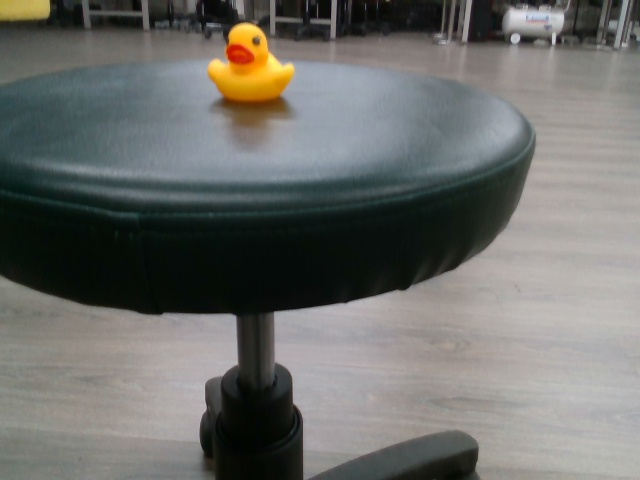duck: (205, 21, 302, 110)
